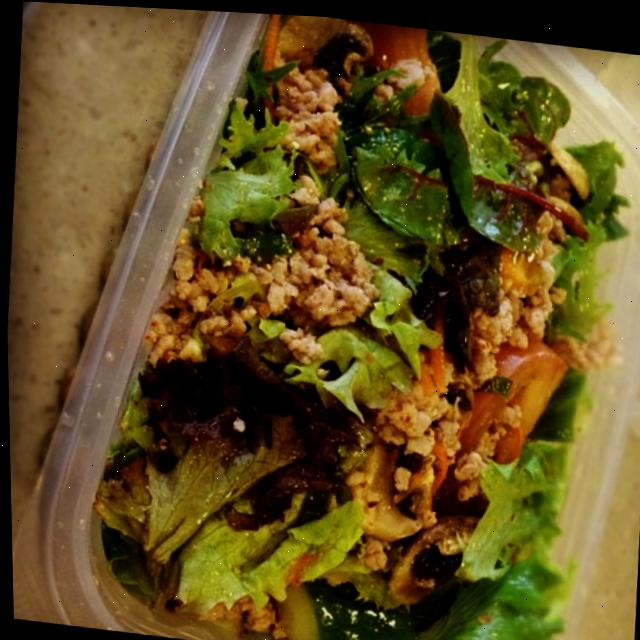鸡肉料理 含炸鸡: (61, 2, 640, 640)
